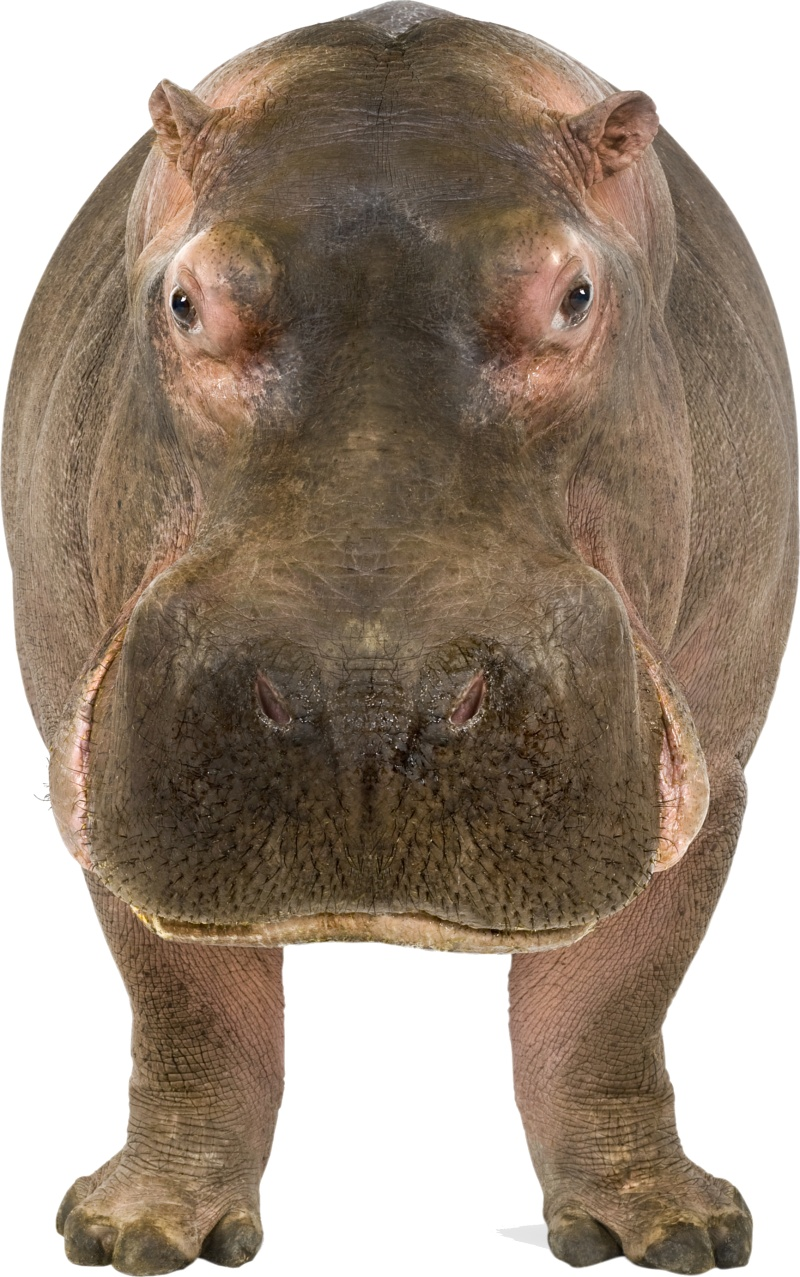hipopotamo: (24, 18, 760, 1266)
